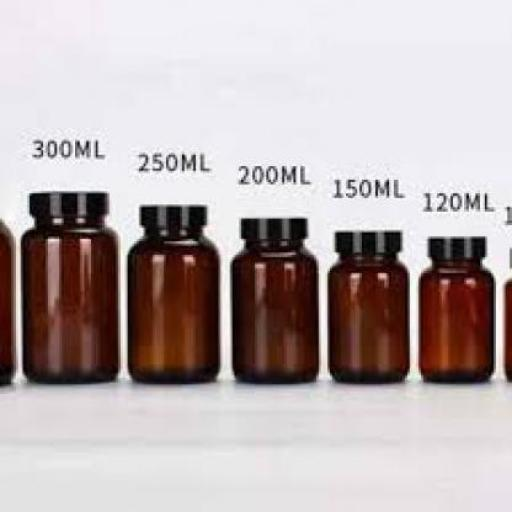glass: (18, 221, 119, 382), (128, 232, 218, 382), (229, 242, 317, 380), (326, 253, 409, 382), (417, 259, 494, 382), (0, 216, 16, 387), (503, 271, 510, 383)
metal: (27, 189, 107, 221), (332, 225, 398, 255), (236, 212, 306, 238), (136, 204, 205, 228), (428, 234, 482, 257)
